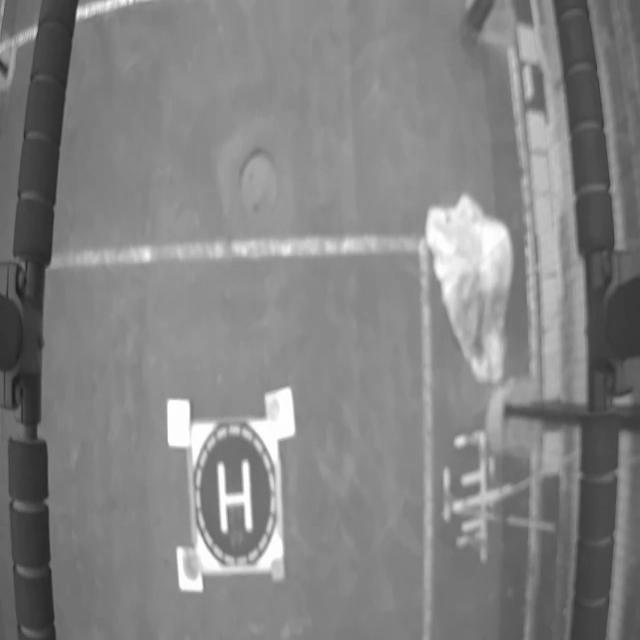Helipad: (216, 454, 255, 540)
